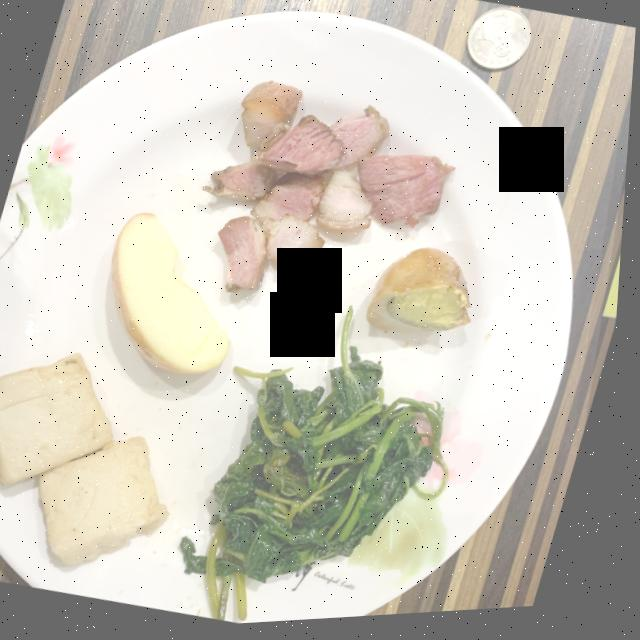apple -sliced-: (114, 214, 234, 376)
coin: (467, 14, 531, 76)
creamy tofu -without sauce-: (0, 354, 175, 566)
grilled pork: (206, 85, 457, 295)
soy egg: (370, 253, 475, 338)
sweet potato leaves: (188, 313, 451, 624)
